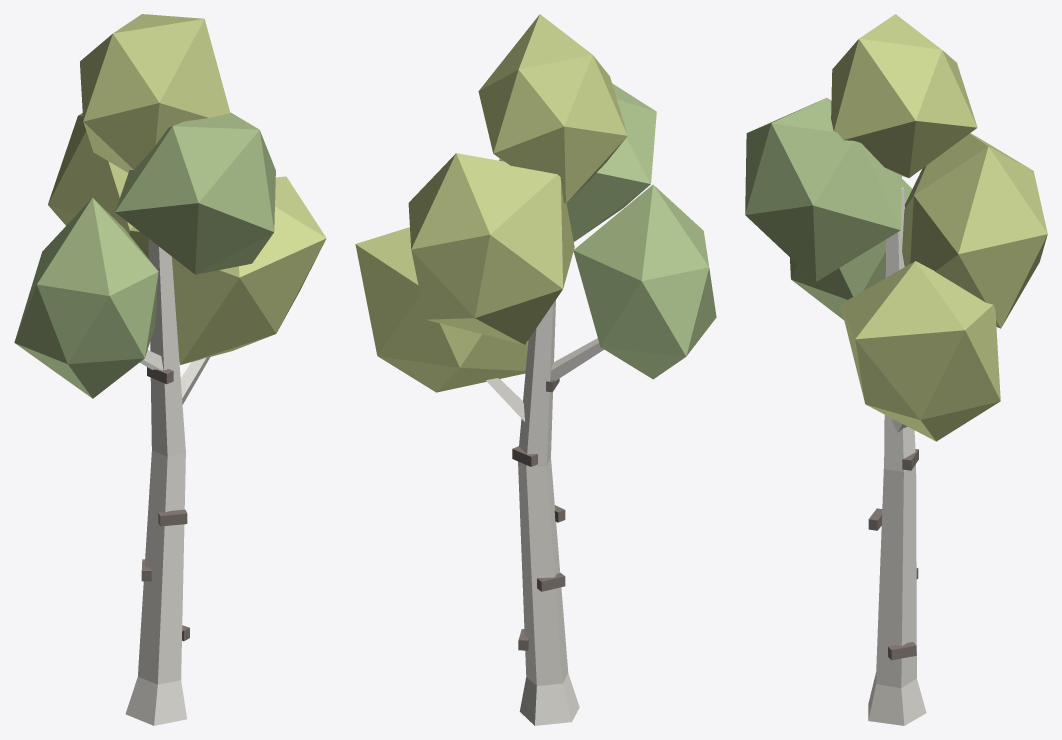
The model's file is birch.glb.
The picture shows the model from 3 angles, left to right: view 1: azimuth 30°, elevation 25°; view 2: azimuth 150°, elevation 25°; view 3: azimuth 270°, elevation 25°; orthographic projection. The views are drawn at different scales.
Visible parts, largest first — view 1: tree_birch; view 2: tree_birch; view 3: tree_birch.
Boxes of the visible parts, <box> form: tree_birch: <box>14,14,326,725</box>; tree_birch: <box>355,14,716,725</box>; tree_birch: <box>745,14,1047,725</box>.
Size of the model in its own units: 0.4331 by 0.9447 by 0.3765.
